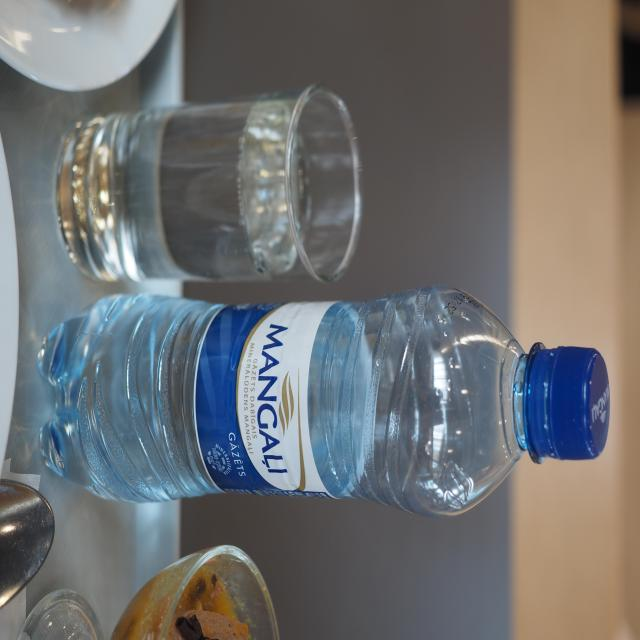bottle: (38, 277, 612, 527)
